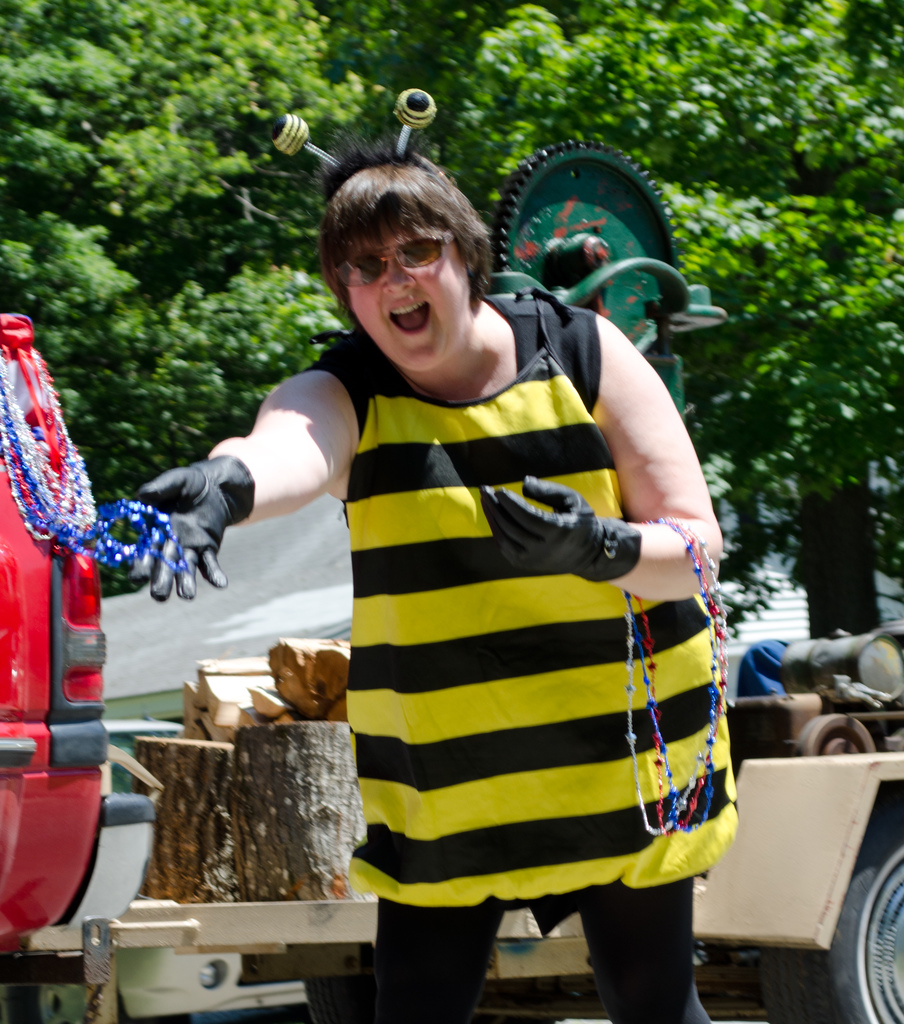Tree: (0, 0, 903, 641)
